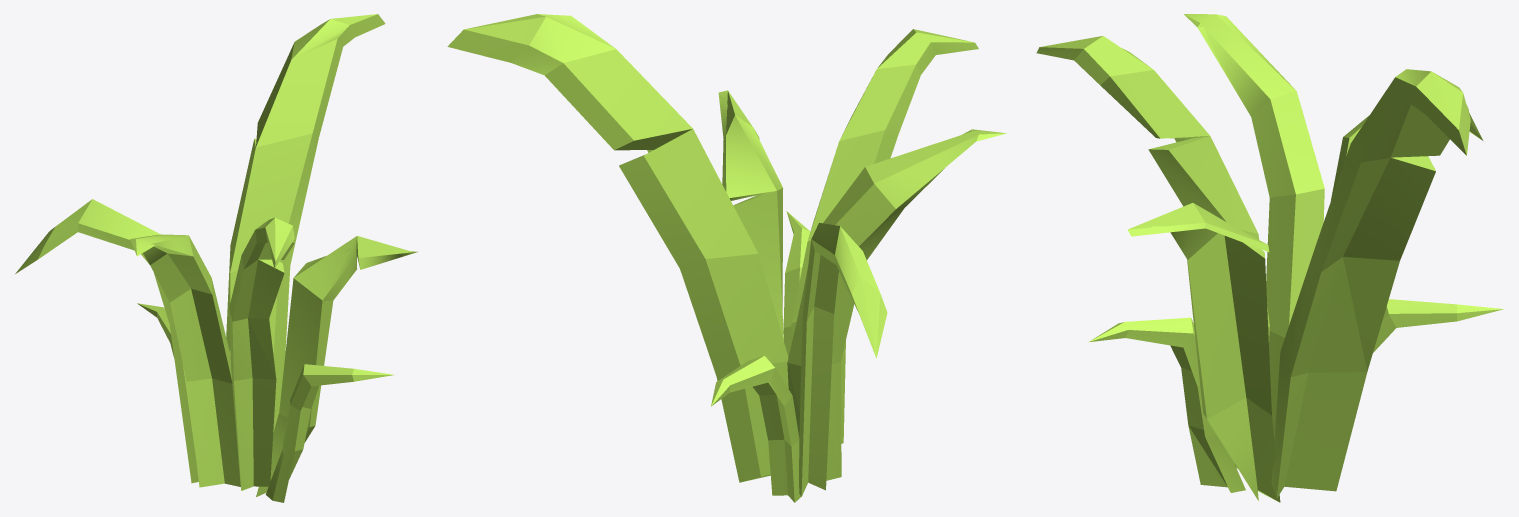
Rendered from yellow green grass.glb.
3 renders of one model, left to right at view 1: azimuth 30°, elevation 25°; view 2: azimuth 150°, elevation 25°; view 3: azimuth 270°, elevation 25°, orthographic. The views are drawn at different scales.
Parts seen in each view (by area): view 1: Grass.001; view 2: Grass.001; view 3: Grass.001.
Part boxes in pixels (left/top/right/bottom): Grass.001: left=15, top=14, right=417, bottom=502; Grass.001: left=447, top=14, right=1006, bottom=502; Grass.001: left=1036, top=14, right=1503, bottom=502.
Size of the model in its own units: 2.82 by 2.92 by 2.43.
1 material, 1 textured.
